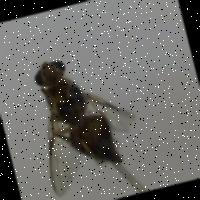Oriental-fruit-fly: (12, 31, 160, 200)
